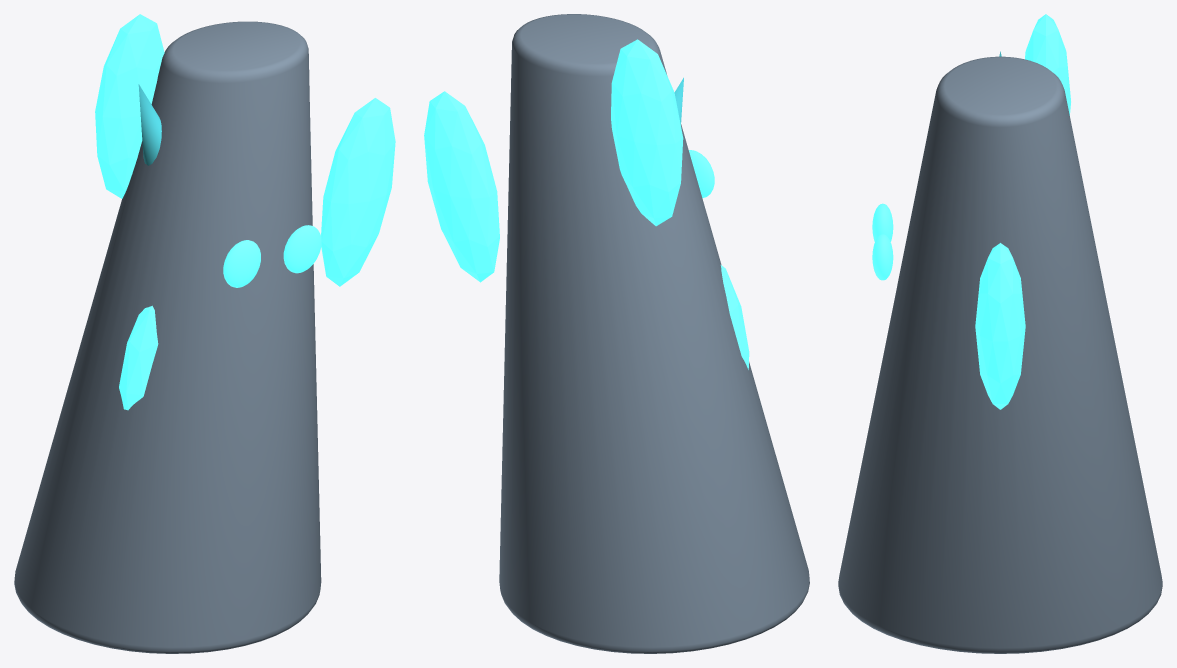
File: wisp_v4.glb
3 views of the same model, side by side, from view 1: azimuth 30°, elevation 25°; view 2: azimuth 150°, elevation 25°; view 3: azimuth 270°, elevation 25° (orthographic). The views are drawn at different scales.
Parts seen in each view (by area): view 1: WRAITH_BODY_PRIMARY, ENERGY_SHARD_EMISSIVE, ENERGY_SHARD_EMISSIVE.001, ENERGY_SHARD_EMISSIVE.002, EYE_EMISSIVE.001, EYE_EMISSIVE, CROWN_HORN_ACCENT; view 2: WRAITH_BODY_PRIMARY, ENERGY_SHARD_EMISSIVE.001, ENERGY_SHARD_EMISSIVE, ENERGY_SHARD_EMISSIVE.002, EYE_EMISSIVE; view 3: WRAITH_BODY_PRIMARY, ENERGY_SHARD_EMISSIVE, ENERGY_SHARD_EMISSIVE.001, EYE_EMISSIVE.001, EYE_EMISSIVE.
Part boxes in pixels (x1,y1,x2,y2): WRAITH_BODY_PRIMARY: (14, 21, 321, 653); ENERGY_SHARD_EMISSIVE: (321, 98, 395, 286); ENERGY_SHARD_EMISSIVE.001: (95, 14, 164, 198); ENERGY_SHARD_EMISSIVE.002: (119, 305, 158, 410); EYE_EMISSIVE.001: (283, 225, 321, 273); EYE_EMISSIVE: (223, 240, 260, 287); CROWN_HORN_ACCENT: (138, 84, 161, 165); WRAITH_BODY_PRIMARY: (499, 14, 809, 653); ENERGY_SHARD_EMISSIVE.001: (611, 39, 683, 226); ENERGY_SHARD_EMISSIVE: (424, 91, 499, 282); ENERGY_SHARD_EMISSIVE.002: (720, 265, 749, 369); EYE_EMISSIVE: (688, 150, 714, 198); WRAITH_BODY_PRIMARY: (838, 56, 1162, 653); ENERGY_SHARD_EMISSIVE: (975, 243, 1025, 409); ENERGY_SHARD_EMISSIVE.001: (1025, 14, 1070, 115); EYE_EMISSIVE.001: (872, 234, 893, 280); EYE_EMISSIVE: (872, 203, 893, 241).
Bounding box in the file's own units: 1.73 × 2.59 × 1.33.
